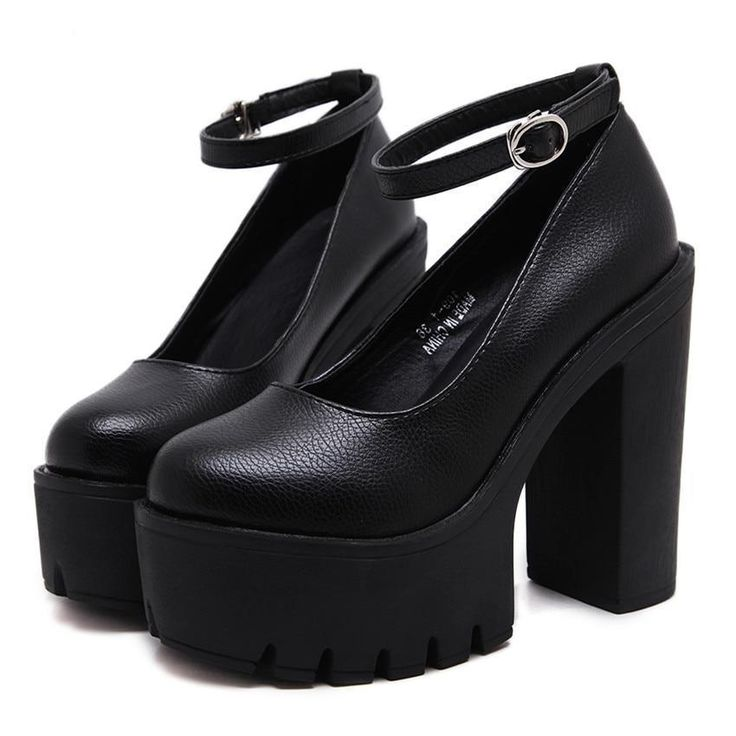cuero: (45, 62, 682, 543)
